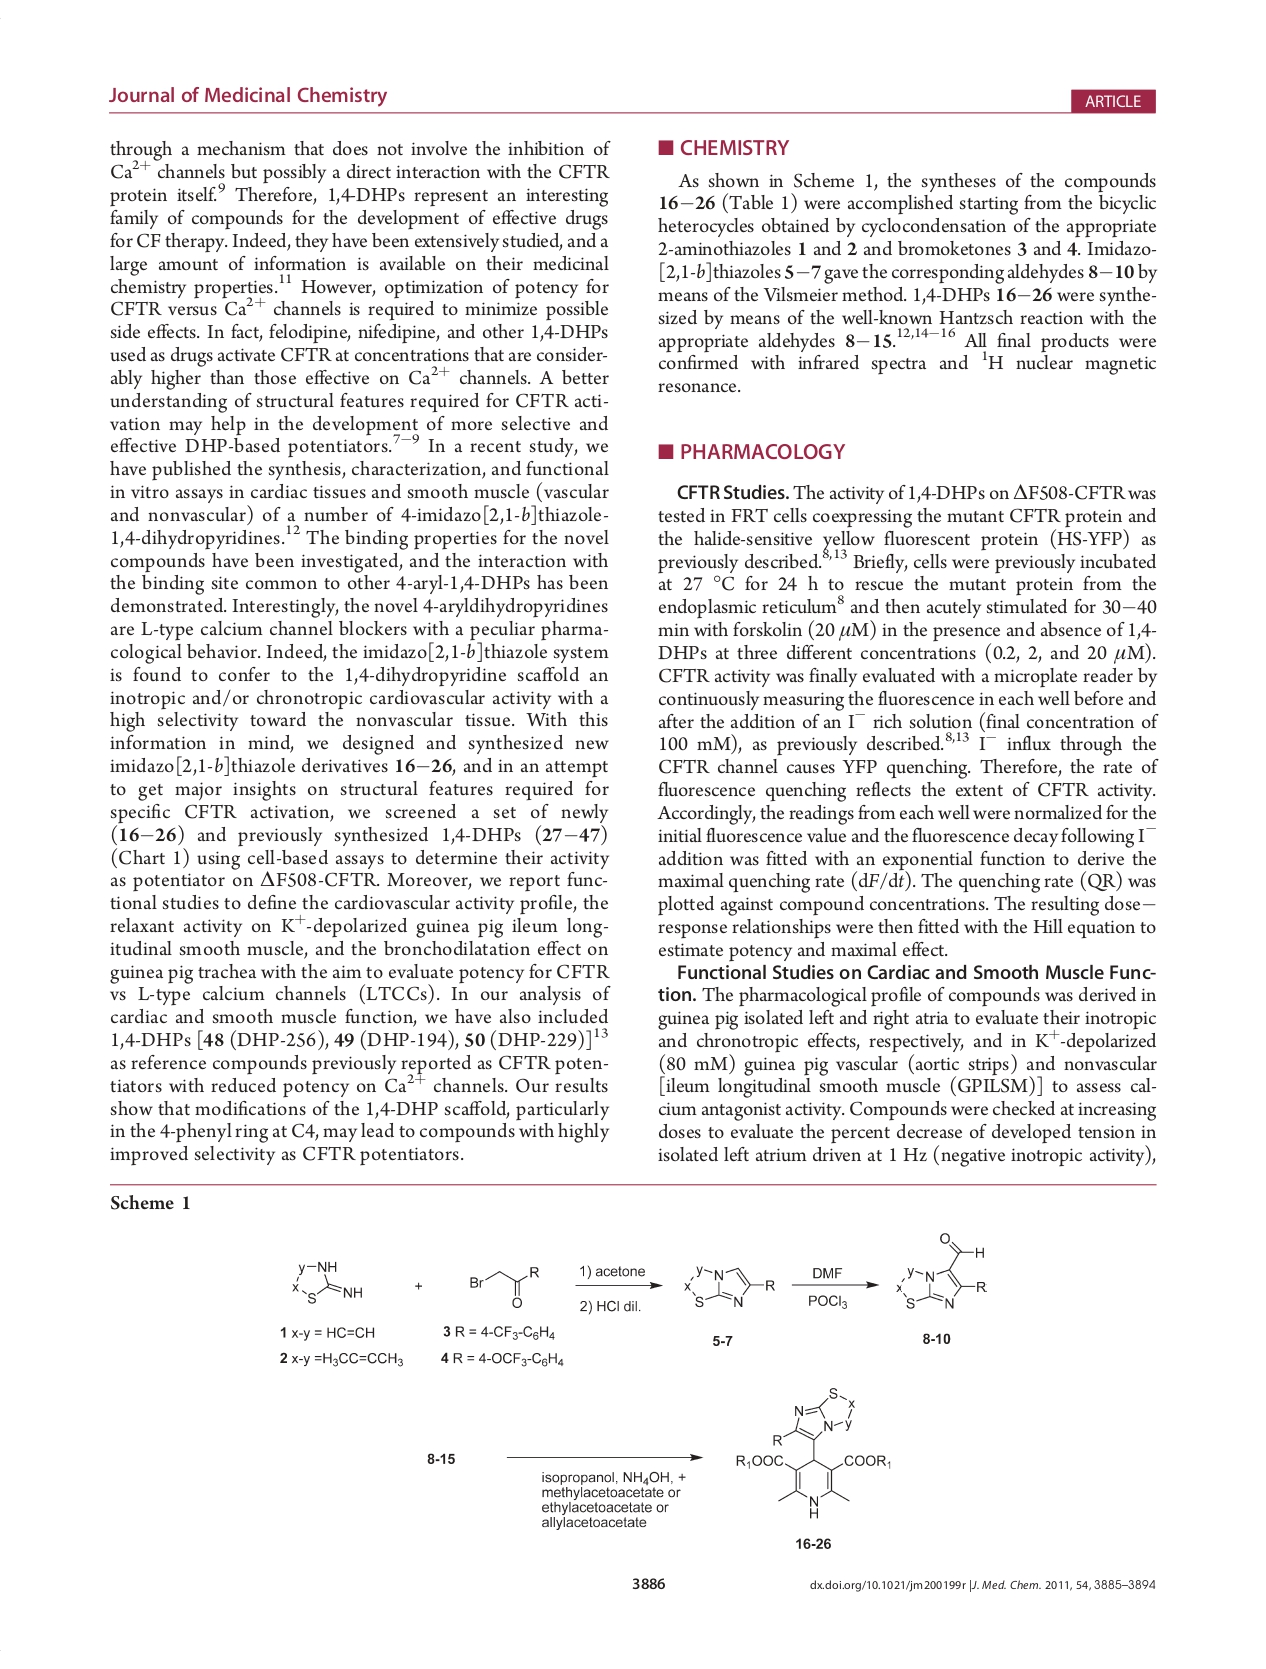exist_molecular: (731, 1384, 894, 1521), (892, 1230, 989, 1310), (680, 1259, 777, 1311), (465, 1255, 548, 1314), (290, 1254, 364, 1307)
